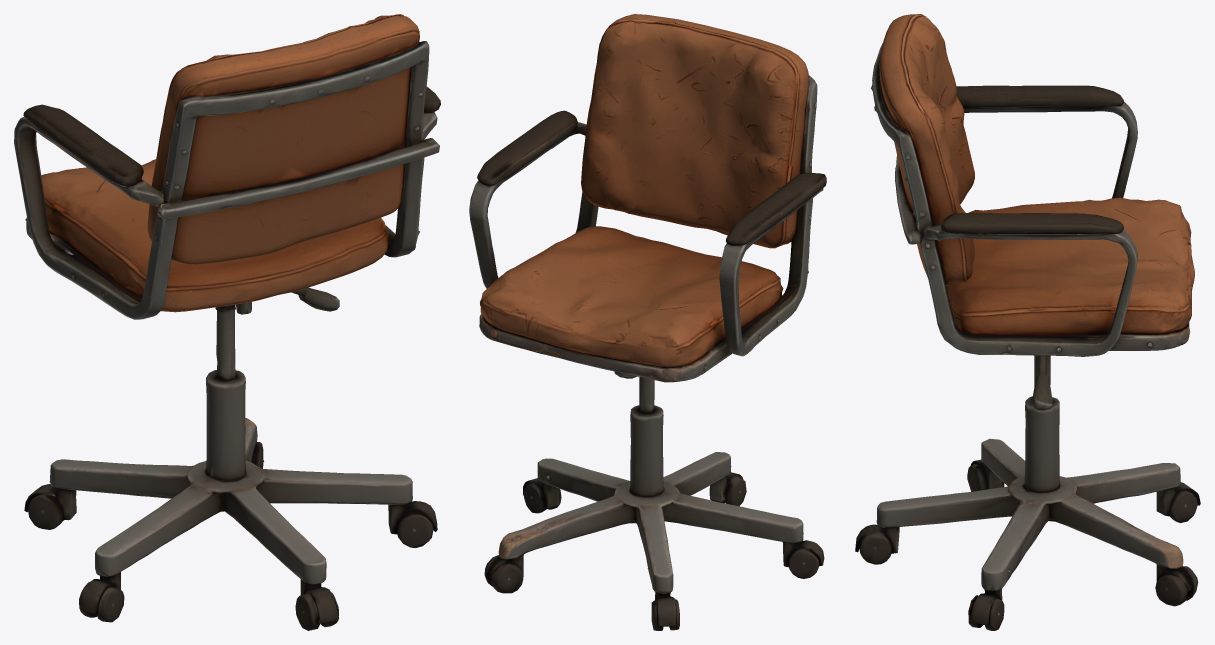
File: theme-office-chair-v05.glb
The picture shows the model from 3 angles, left to right: view 1: azimuth 30°, elevation 25°; view 2: azimuth 150°, elevation 25°; view 3: azimuth 270°, elevation 25°; orthographic projection. The views are drawn at different scales.
Visible parts, largest first — view 1: tripo_node_1e909719-2bd9-422e-91e8-ba75b0e30f6d; view 2: tripo_node_1e909719-2bd9-422e-91e8-ba75b0e30f6d; view 3: tripo_node_1e909719-2bd9-422e-91e8-ba75b0e30f6d.
Part boxes in pixels (left/top/right/bottom): tripo_node_1e909719-2bd9-422e-91e8-ba75b0e30f6d: left=14, top=14, right=440, bottom=630; tripo_node_1e909719-2bd9-422e-91e8-ba75b0e30f6d: left=469, top=14, right=826, bottom=630; tripo_node_1e909719-2bd9-422e-91e8-ba75b0e30f6d: left=855, top=14, right=1200, bottom=630.
Size of the model in its own units: 0.6586 by 1.02 by 0.6286.
1 material, 1 textured.
